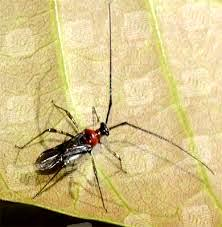Helopeltis-insect: (36, 115, 113, 183)
